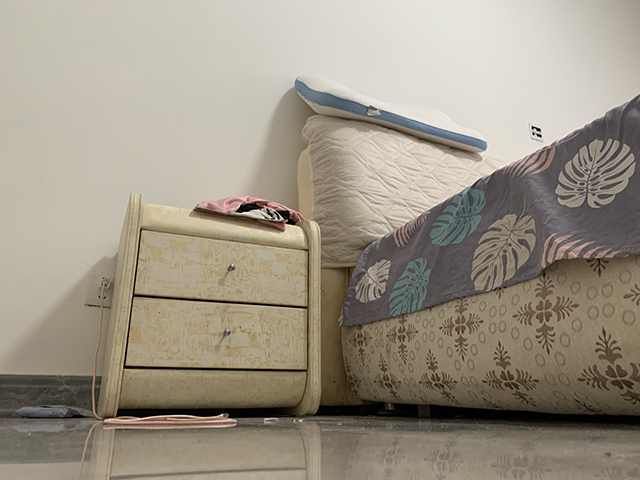bed: (293, 72, 640, 420)
cabinet: (94, 189, 323, 419)
wire: (91, 274, 236, 427)
